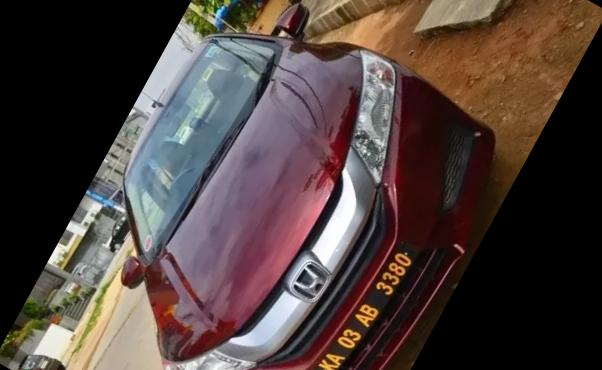plate: (302, 226, 423, 370)
